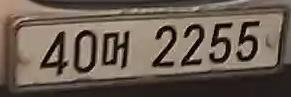0: (70, 28, 100, 75)
2: (151, 23, 179, 70), (179, 21, 207, 68)
4: (39, 28, 72, 78)
5: (235, 19, 264, 64), (206, 20, 234, 66)
머: (100, 29, 131, 71)
